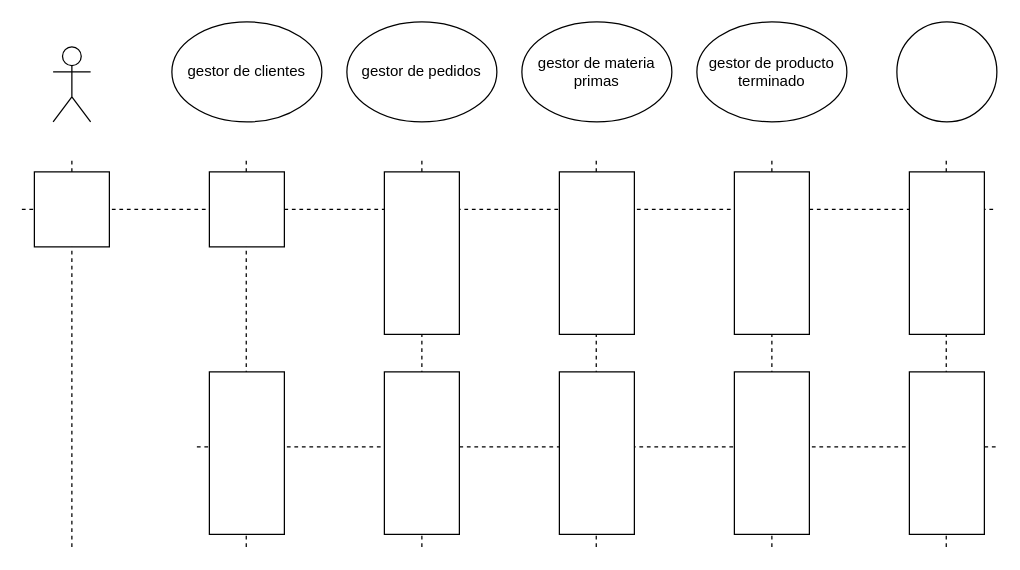
The diagram is 1020 pixels wide and 570 high, and some of its shapes have lost their labels. Each missing label, with the centre of its shape:
"Actor" belongs at (x=71, y=84).
"database" belongs at (x=946, y=71).
